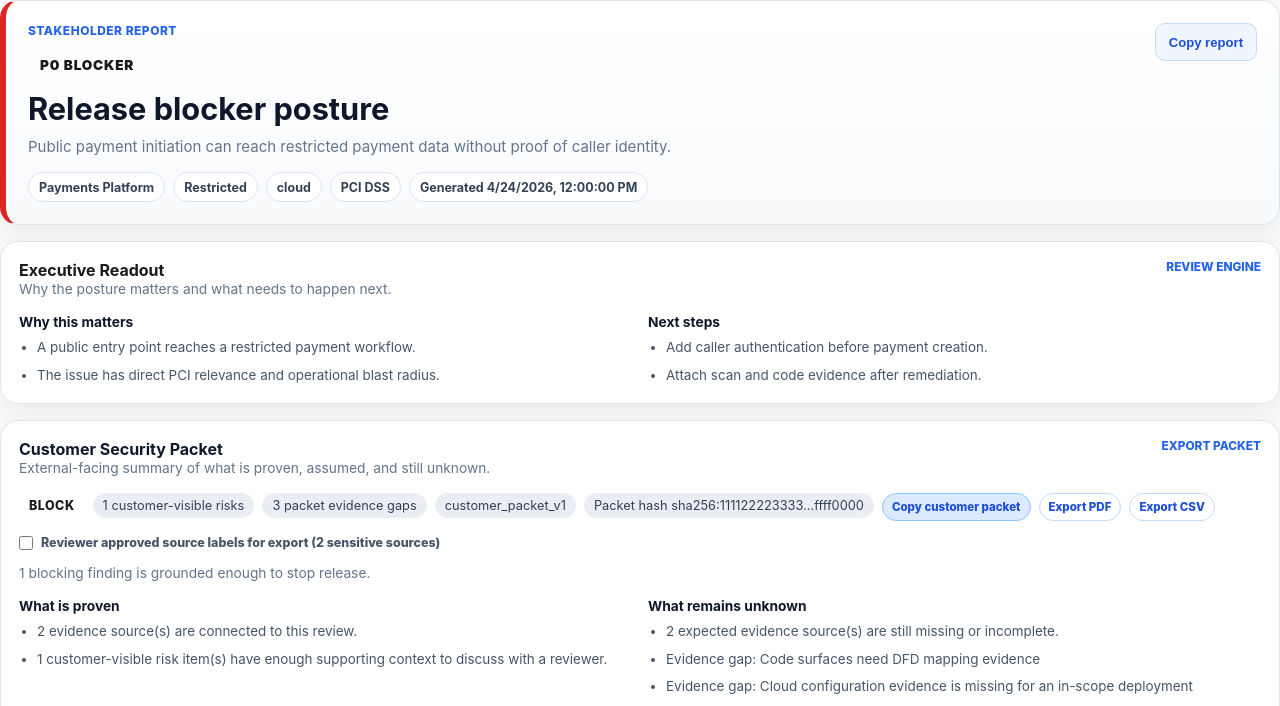
Test: SecurityReviewReportPanel › copies a stakeholder-safe report summary
What coordinates should you click on to do the following:
click the button "Copy report"
I would click on:
 (1206, 42)
Its box is [1155,23,1257,61].
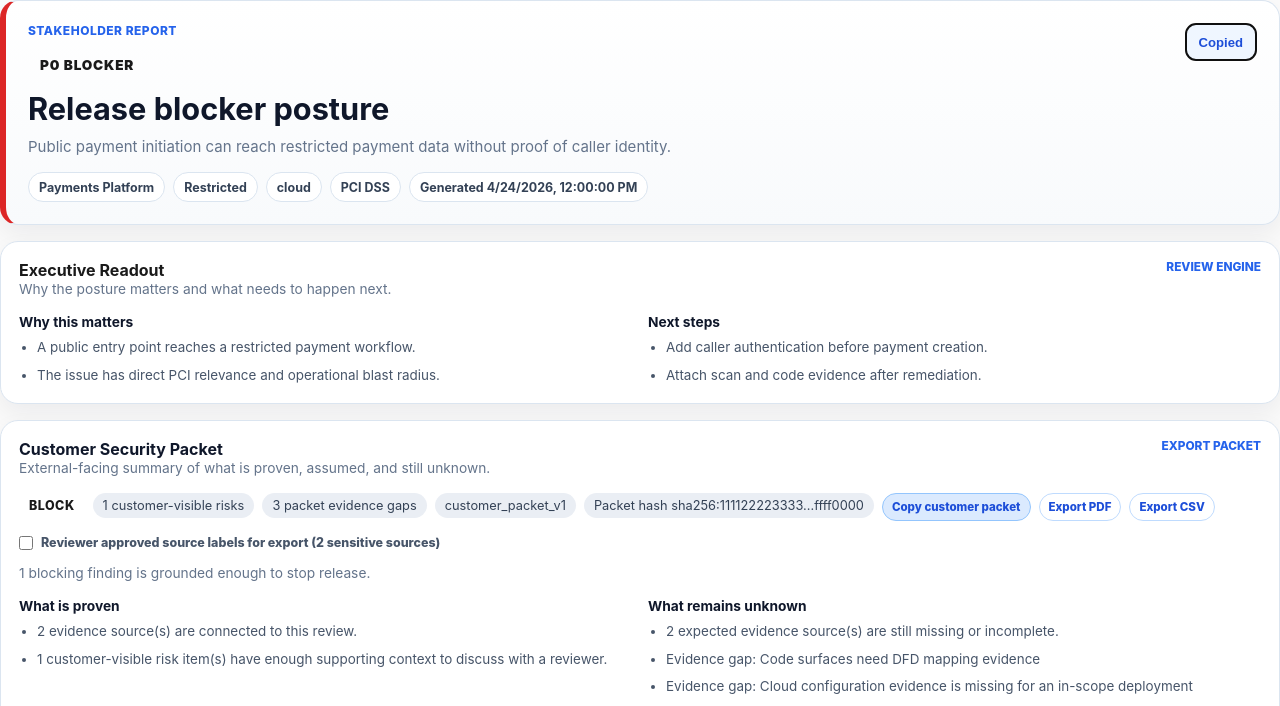
Expected: the button "Copied" is shown, [1185,23,1257,61]
